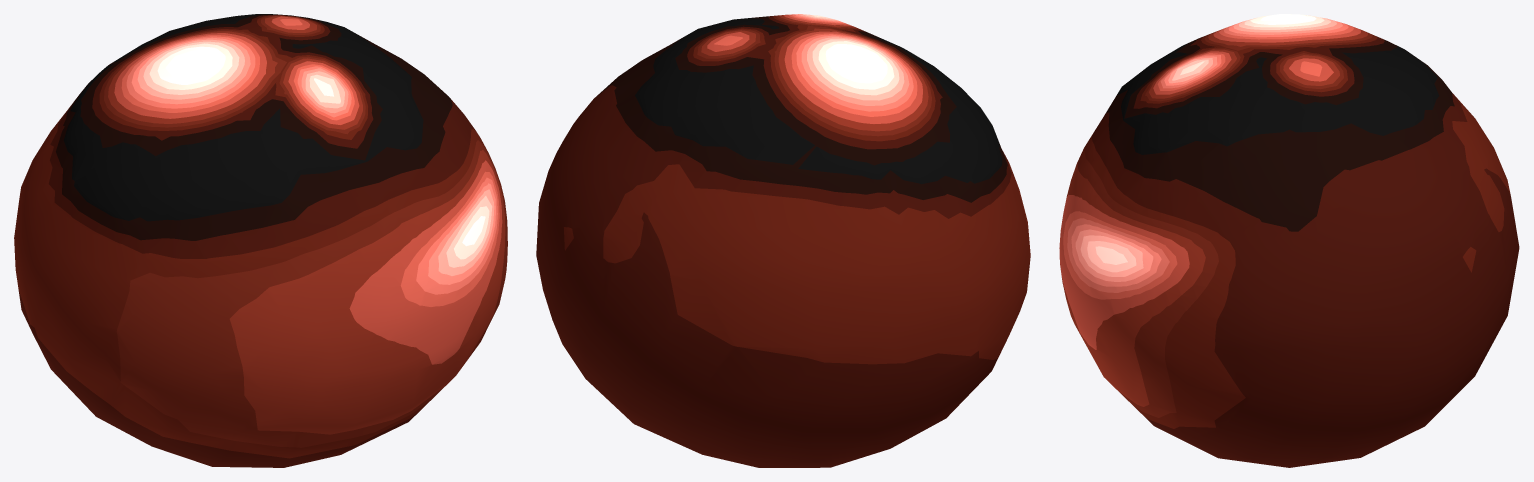
The model's file is orb_eyes_small.glb.
The picture shows the model from 3 angles, left to right: view 1: azimuth 30°, elevation 25°; view 2: azimuth 150°, elevation 25°; view 3: azimuth 270°, elevation 25°; orthographic projection. The views are drawn at different scales.
Visible parts, largest first — view 1: orb_eyes_small; view 2: orb_eyes_small; view 3: orb_eyes_small.
Part boxes in pixels (box(x1,y1,x2,y2)): orb_eyes_small: box(14, 14, 507, 467); orb_eyes_small: box(536, 14, 1030, 467); orb_eyes_small: box(1059, 14, 1519, 467).
Bounding box in the file's own units: 16 × 14.3 × 15.
